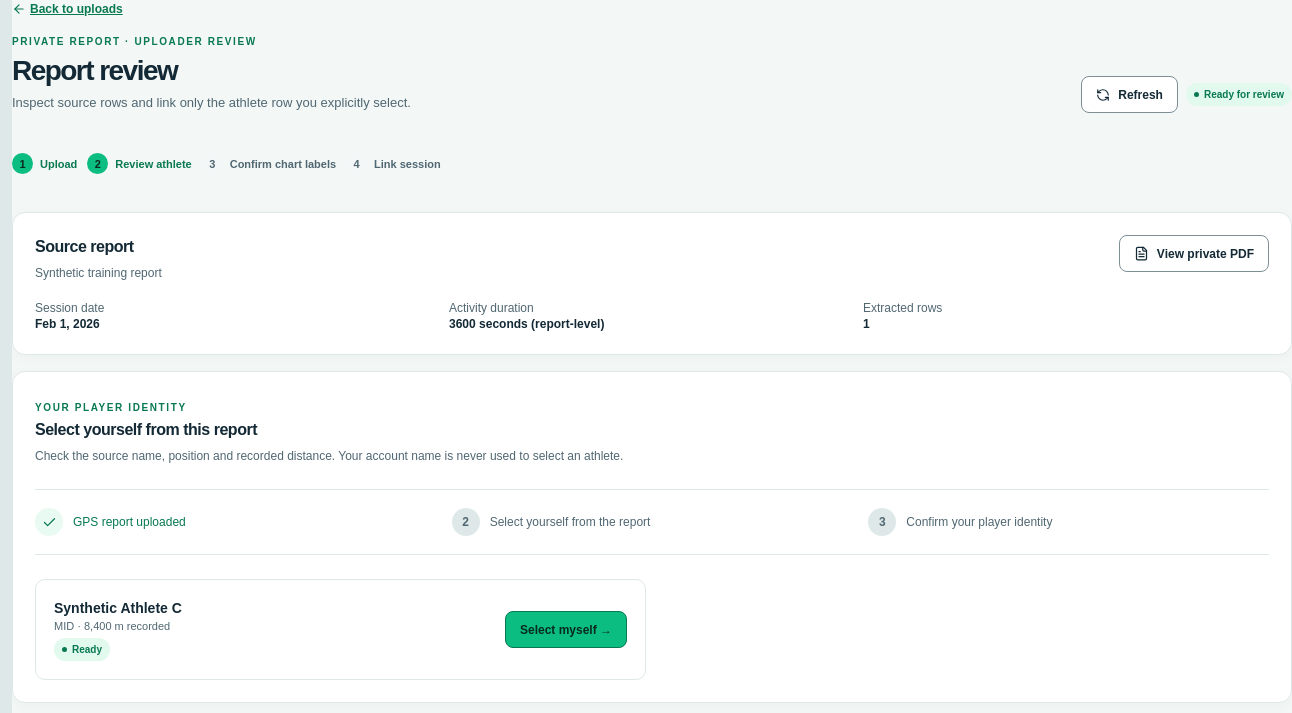
uploader review flow › guides self-selection through backend-confirmed identity refresh and dashboard navigation
Click the button with aria-label "select myself — synthetic athlete c": (566, 630) [505,611,627,648]
(page scrolled)
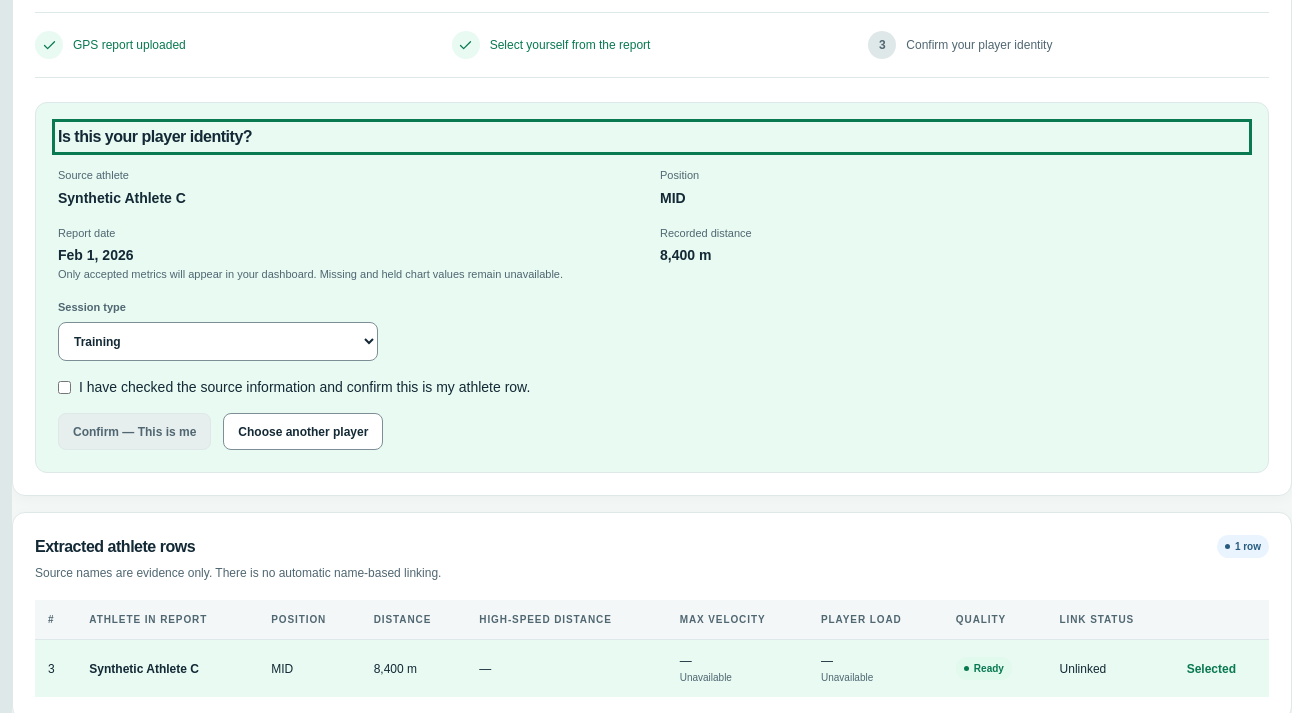
Now the heading "Is this your player identity?" is shown, box [58,128,252,145]
Now the button "Confirm — This is me" is disabled, box [58,413,211,450]
Click the checkbox: (64, 388) [58,381,71,394]
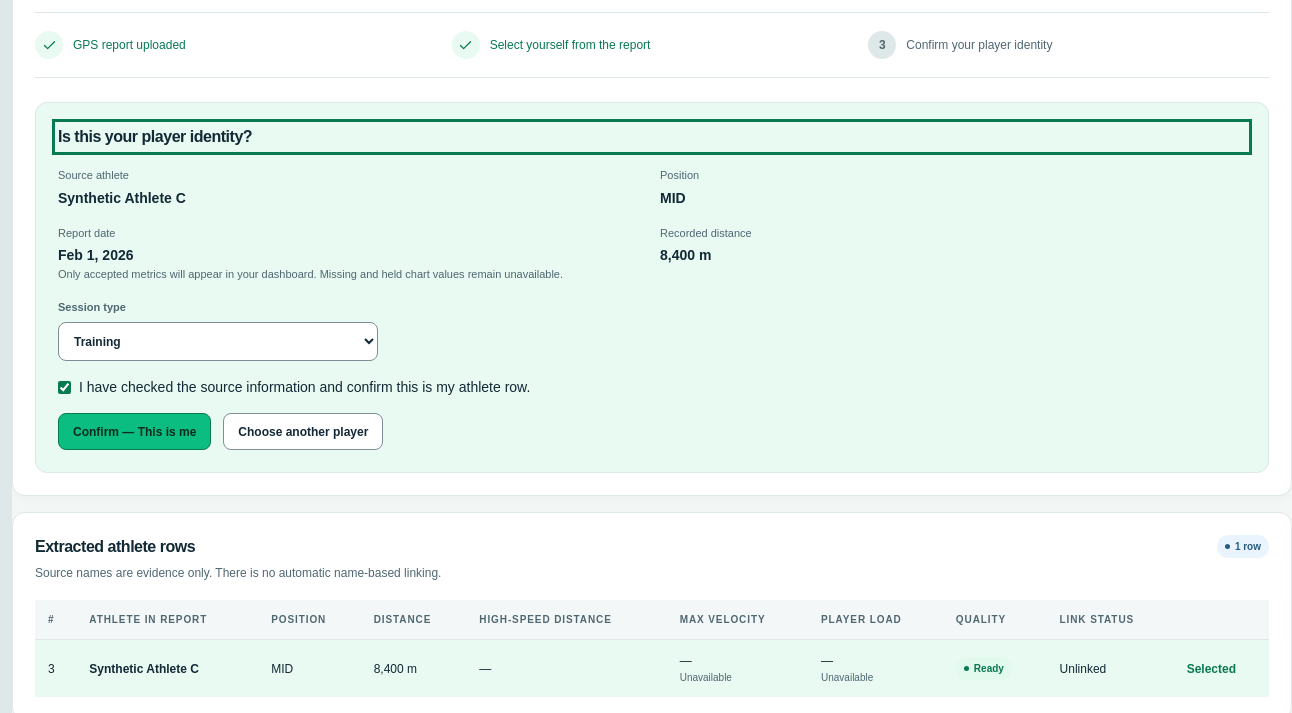
Click the button "Confirm — This is me": (135, 432) [58,413,211,450]
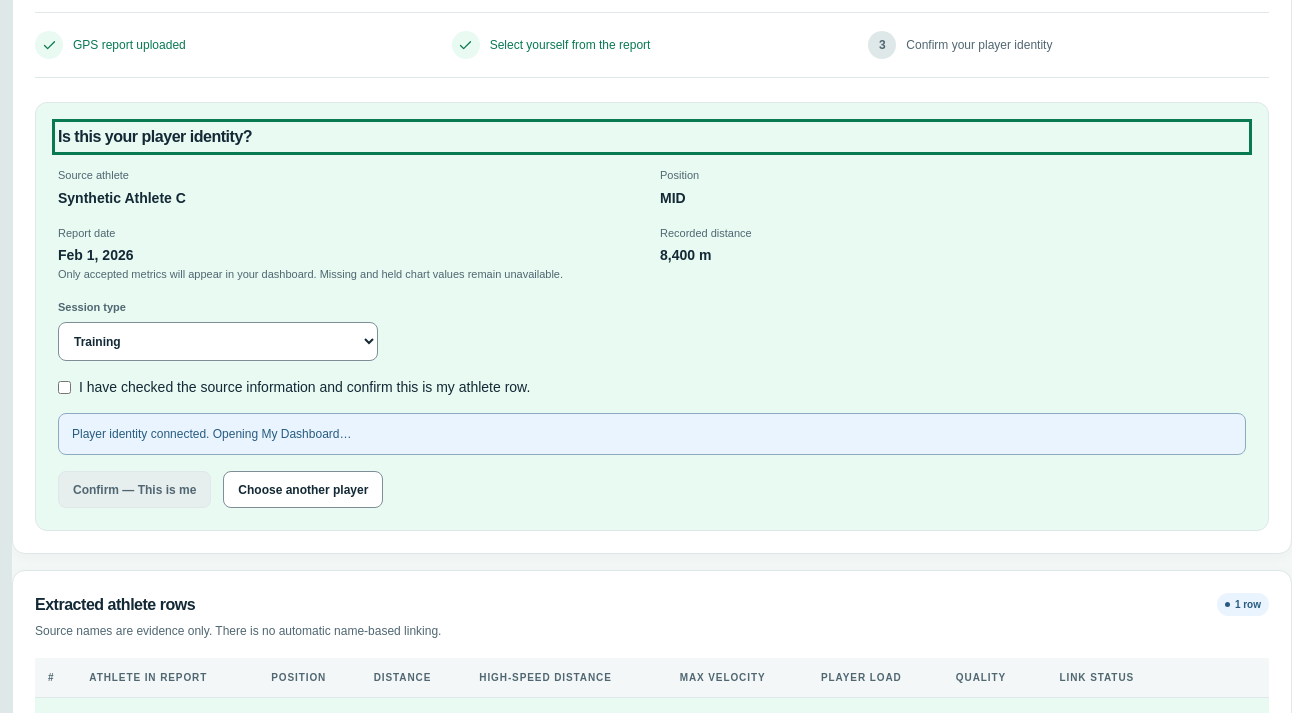
Now the message shows "Player identity connected", box [72,427,352,441]
